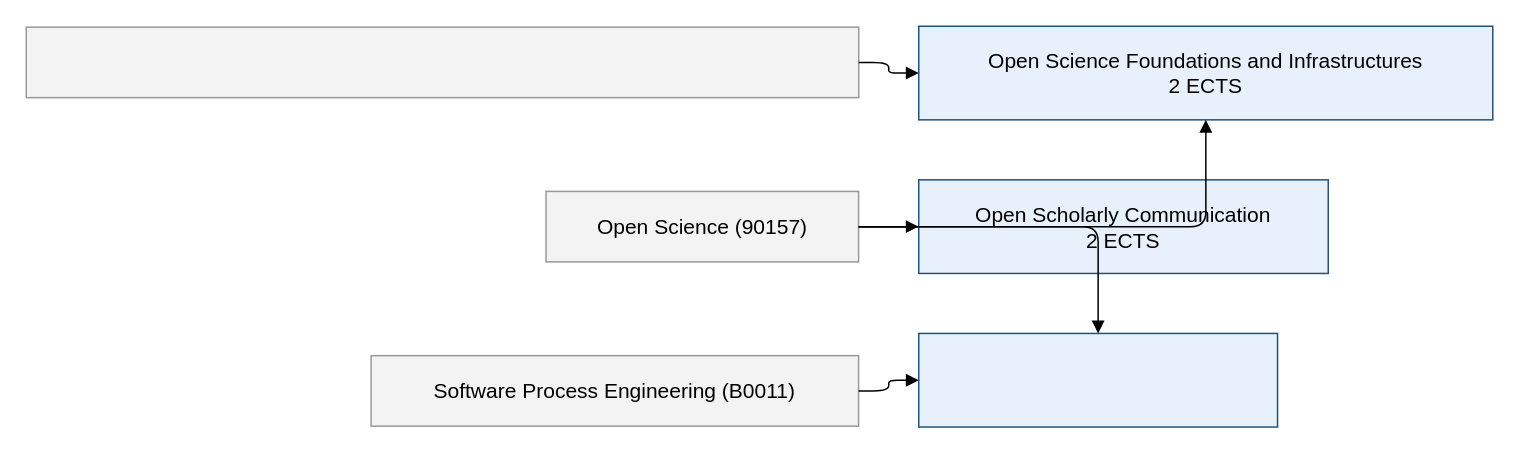
Image size: 1520x455. Some labels were removed from this diagram. Each missing label, with the centre of its shape:
"Digital Humanities and Data Management for Cultural Heritage (B5079)" belongs at (x=442, y=62).
"Open Research Workflows 3 ECTS" belongs at (x=1097, y=379).
